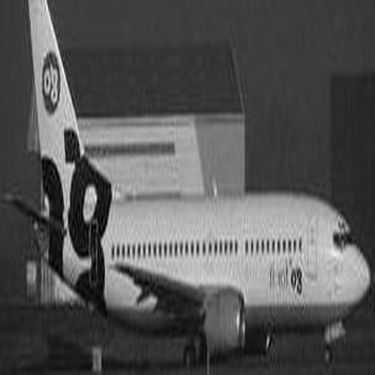airplane: (4, 3, 367, 371)
